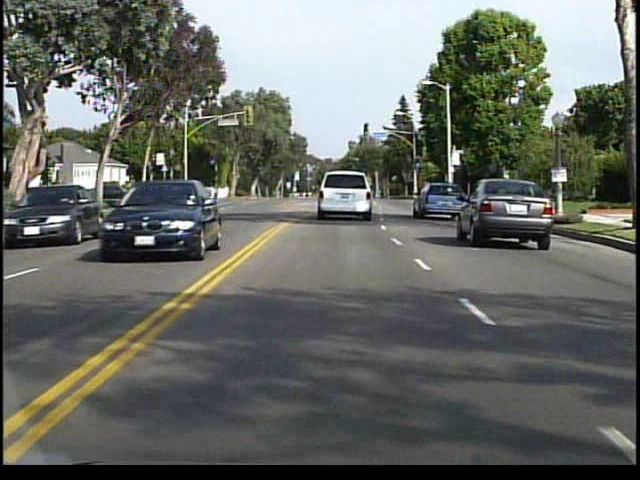car: (108, 176, 208, 263), (461, 179, 555, 249), (1, 182, 94, 252), (317, 168, 371, 224), (413, 183, 465, 218)
strada: (18, 248, 640, 475)
